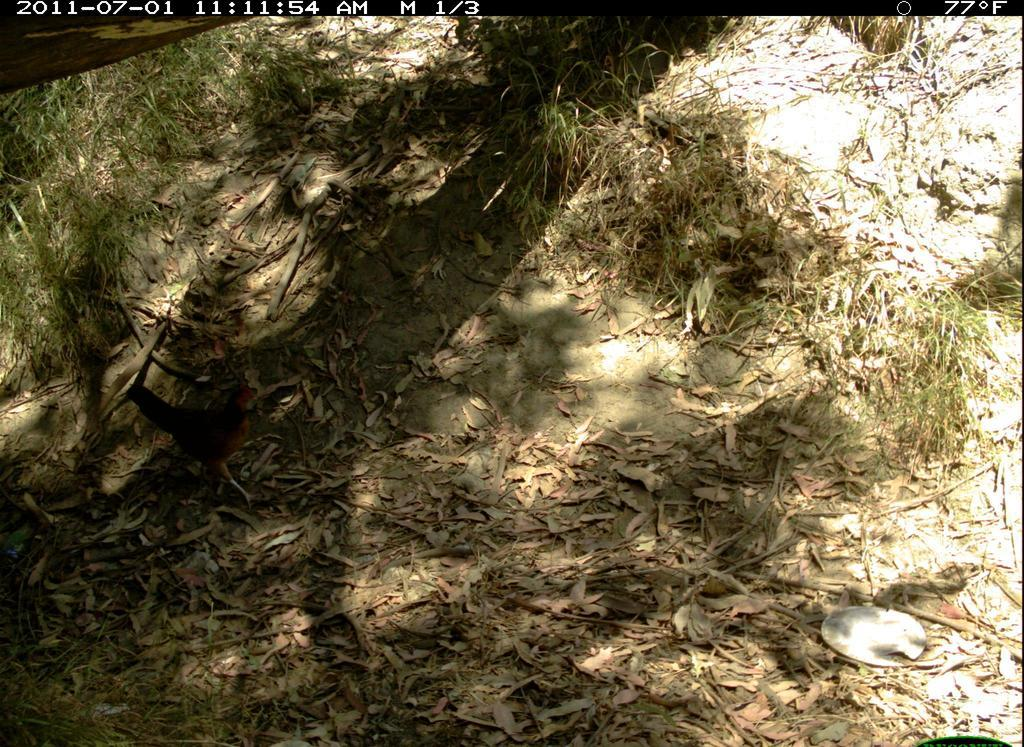bird: (122, 376, 267, 508)
